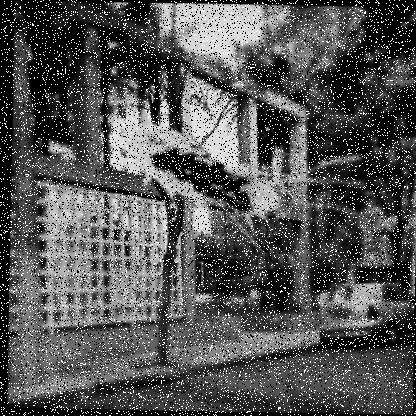Car: (318, 282, 414, 346)
